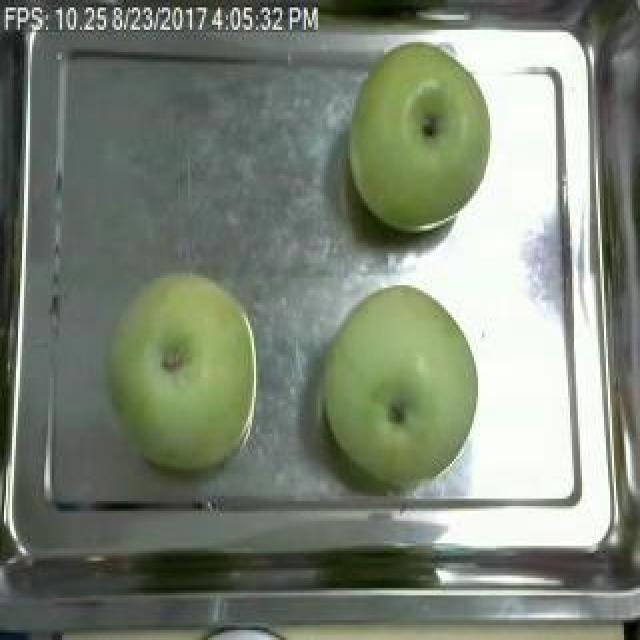Rotten Apple: (102, 270, 258, 479), (343, 30, 493, 238), (322, 290, 476, 489)
